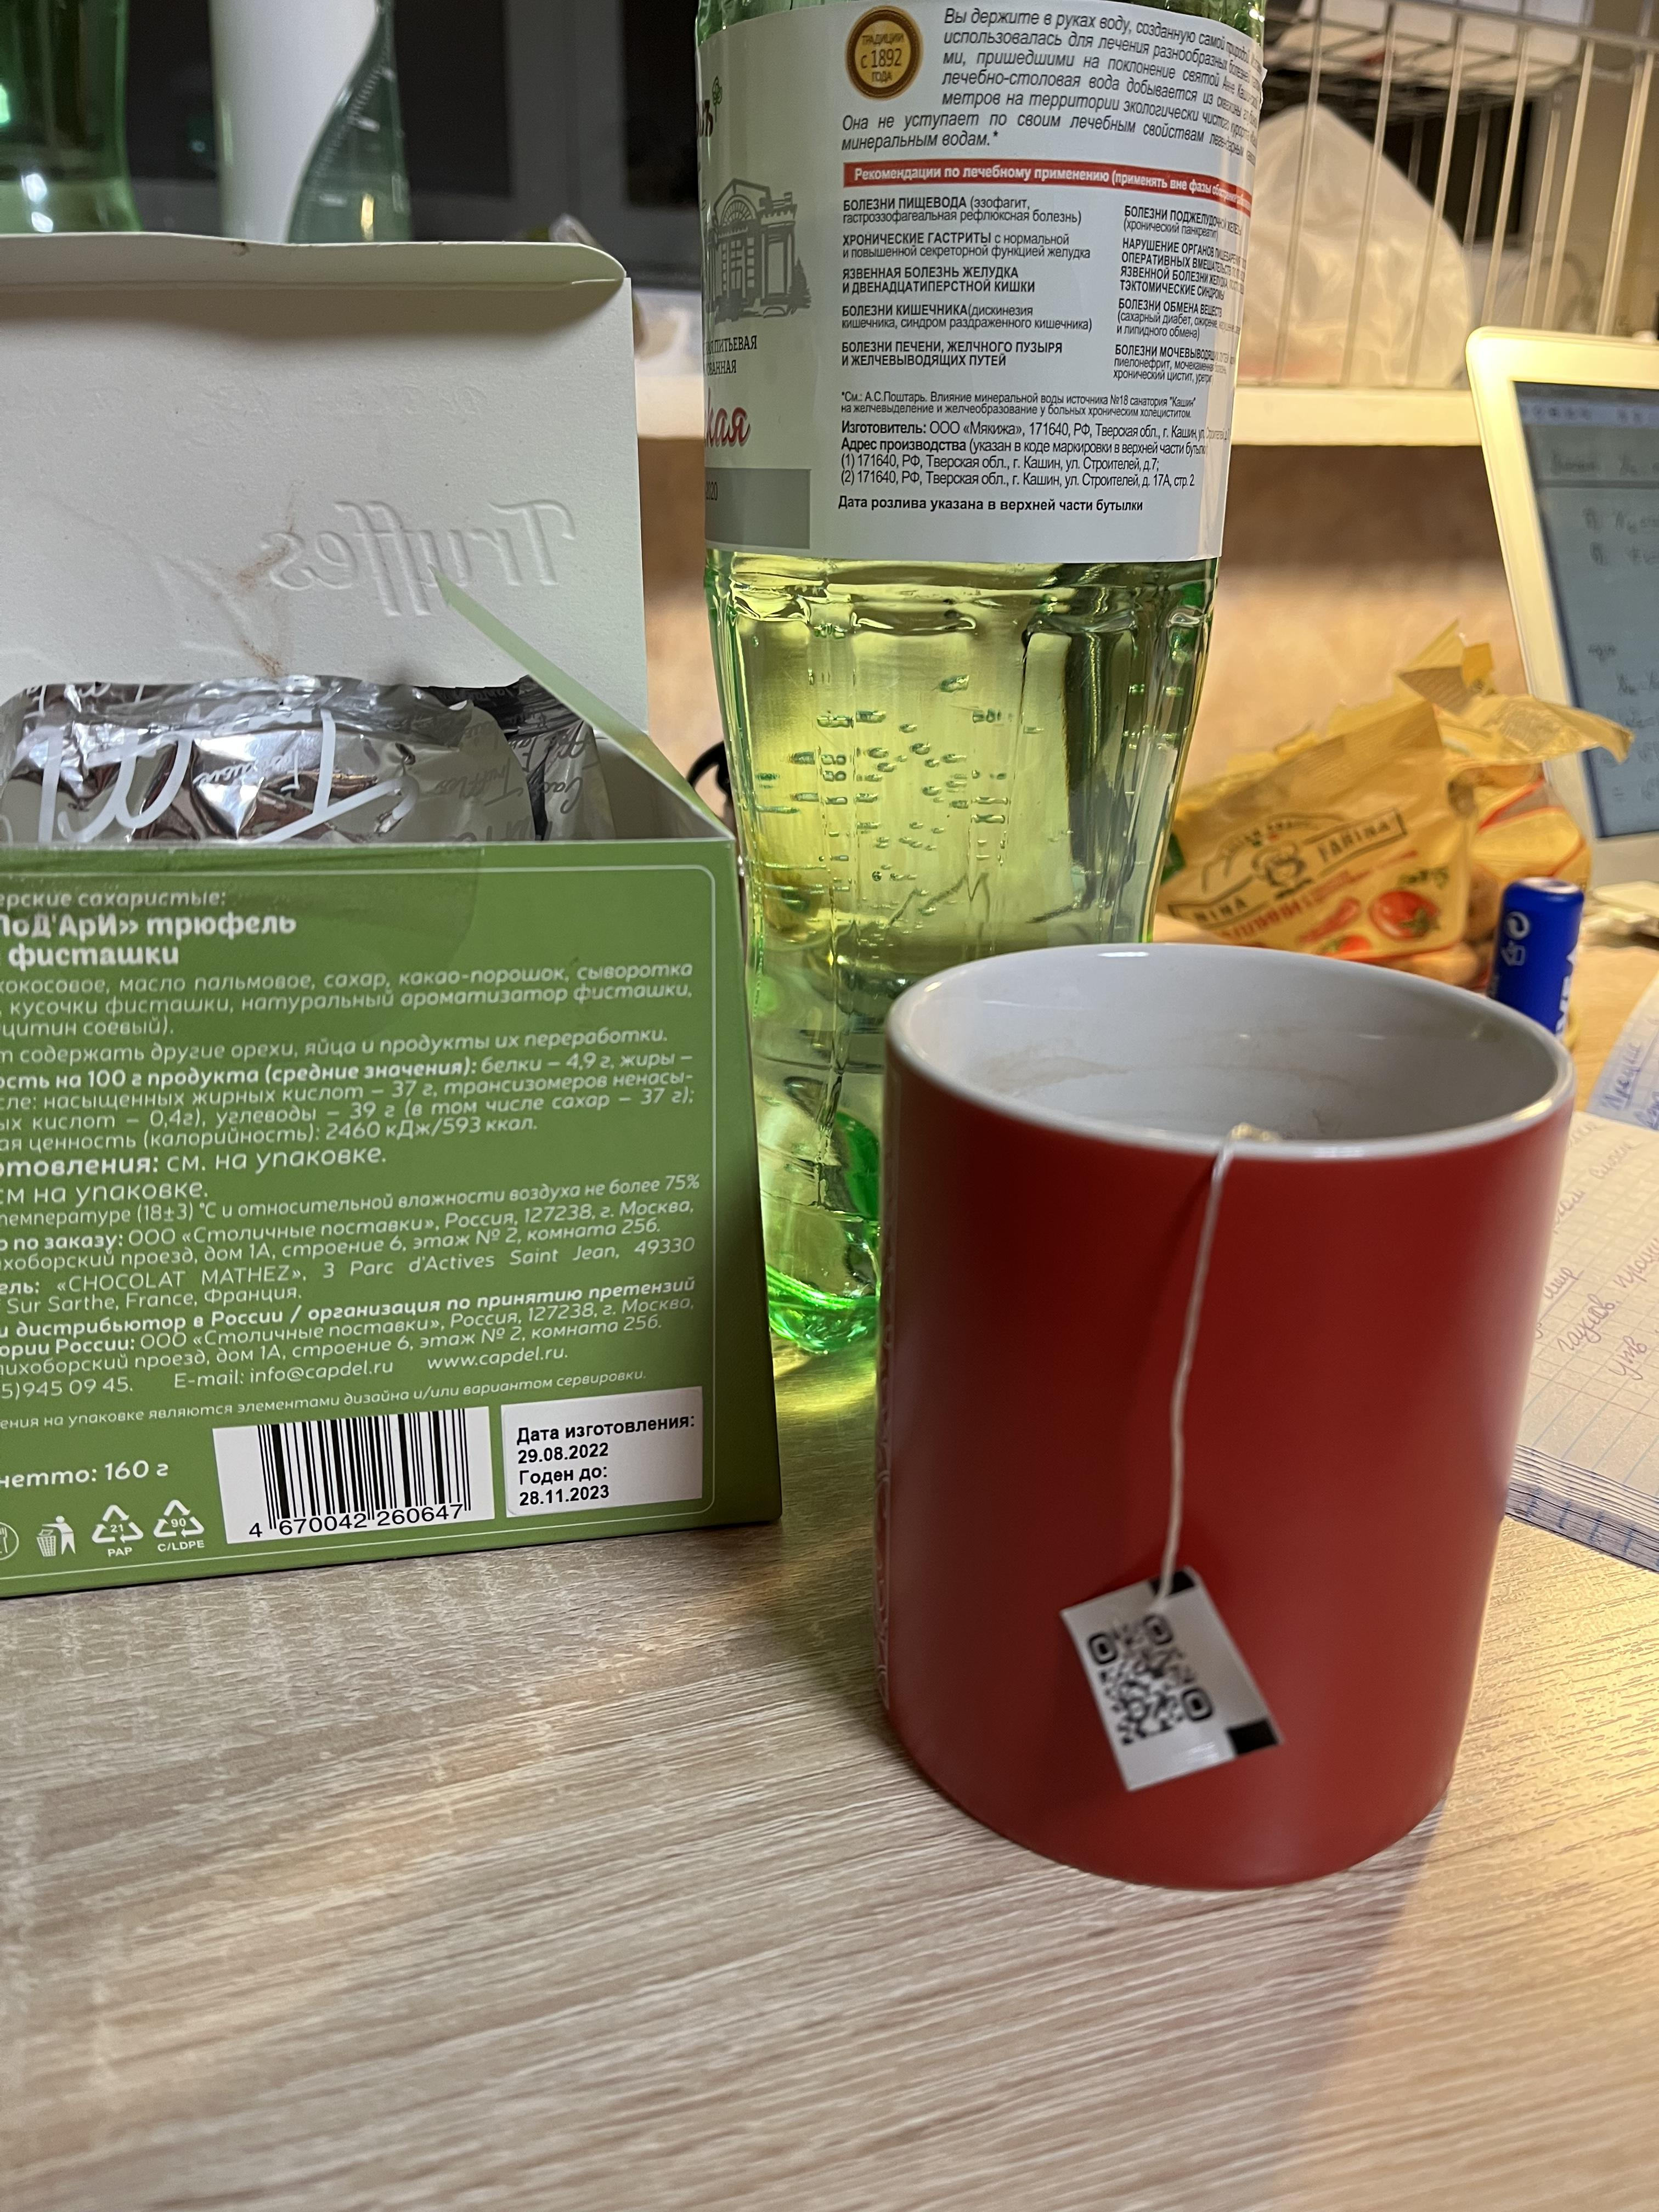qrcode: (1087, 1616, 1216, 1749)
